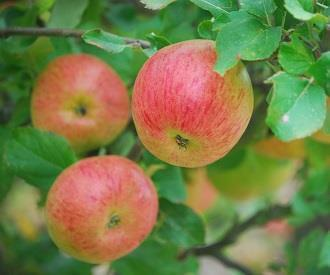apple: (127, 39, 252, 171), (43, 154, 159, 266), (28, 54, 130, 150)
